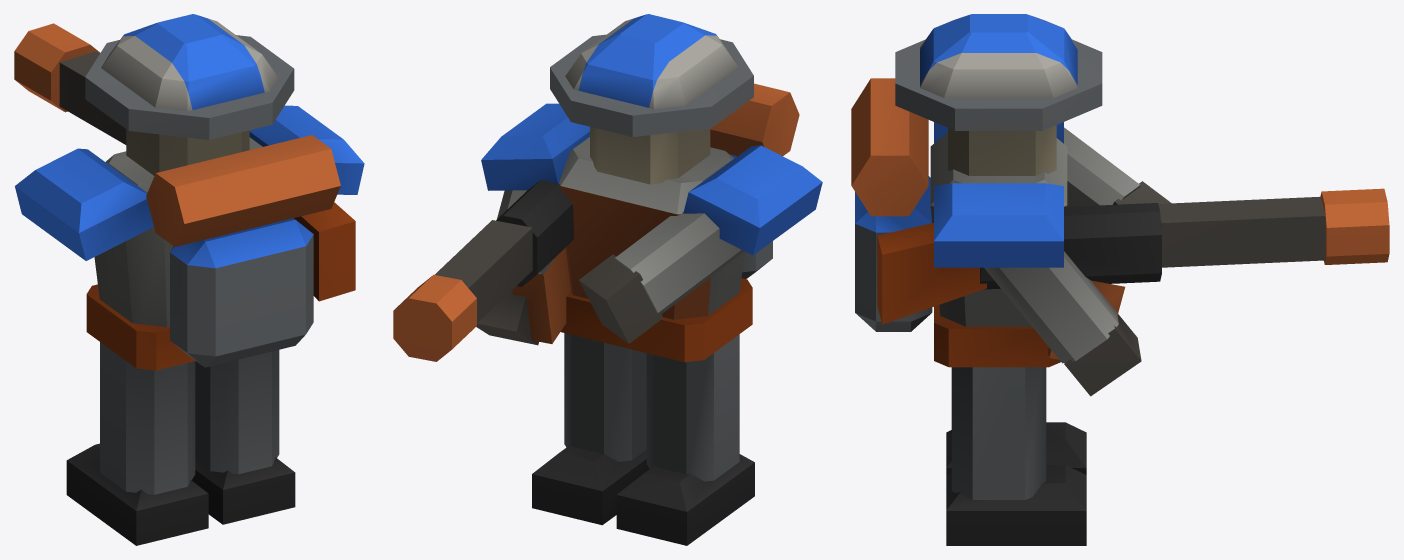
3 renders of one model, left to right at view 1: azimuth 30°, elevation 25°; view 2: azimuth 150°, elevation 25°; view 3: azimuth 270°, elevation 25°, orthographic. The views are drawn at different scales.
Visible parts, largest first — view 1: body, swingL_legL, swingR_legR; view 2: body, swingL_legL, swingR_legR, swingR_armL, swingL_armR; view 3: body, swingR_legR, swingL_armR, swingR_armL, swingL_legL.
Boxes of the visible parts, box(x1,y1,x2,y2) form: body: box(14, 14, 364, 370); swingL_legL: box(66, 342, 208, 545); swingR_legR: box(191, 350, 295, 524); body: box(393, 14, 822, 362); swingL_legL: box(616, 334, 754, 545); swingR_legR: box(532, 333, 649, 525); swingR_armL: box(579, 212, 744, 343); swingL_armR: box(476, 190, 554, 345); body: box(851, 14, 1389, 367); swingR_legR: box(946, 367, 1086, 545); swingL_armR: box(984, 251, 1141, 396); swingR_armL: box(1064, 127, 1171, 227); swingL_legL: box(946, 422, 1086, 474).
Size of the model in its own units: 0.4744 by 0.76 by 0.7664.
